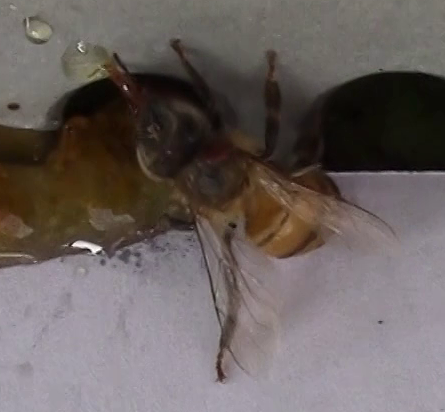Varroa destructor: (198, 139, 233, 164)
